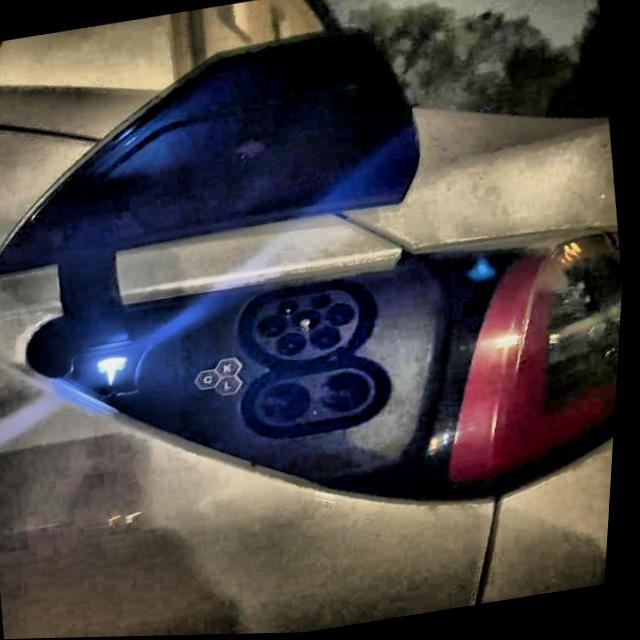inlet: (257, 291, 364, 362)
inlet-above-left: (280, 301, 303, 317)
inlet-above-right: (315, 295, 335, 310)
inlet-below-left: (280, 334, 310, 357)
inlet-below-right: (315, 327, 344, 351)
inlet-center: (295, 311, 325, 334)
inlet-center-left: (262, 316, 291, 338)
inlet-center-right: (330, 305, 359, 327)
